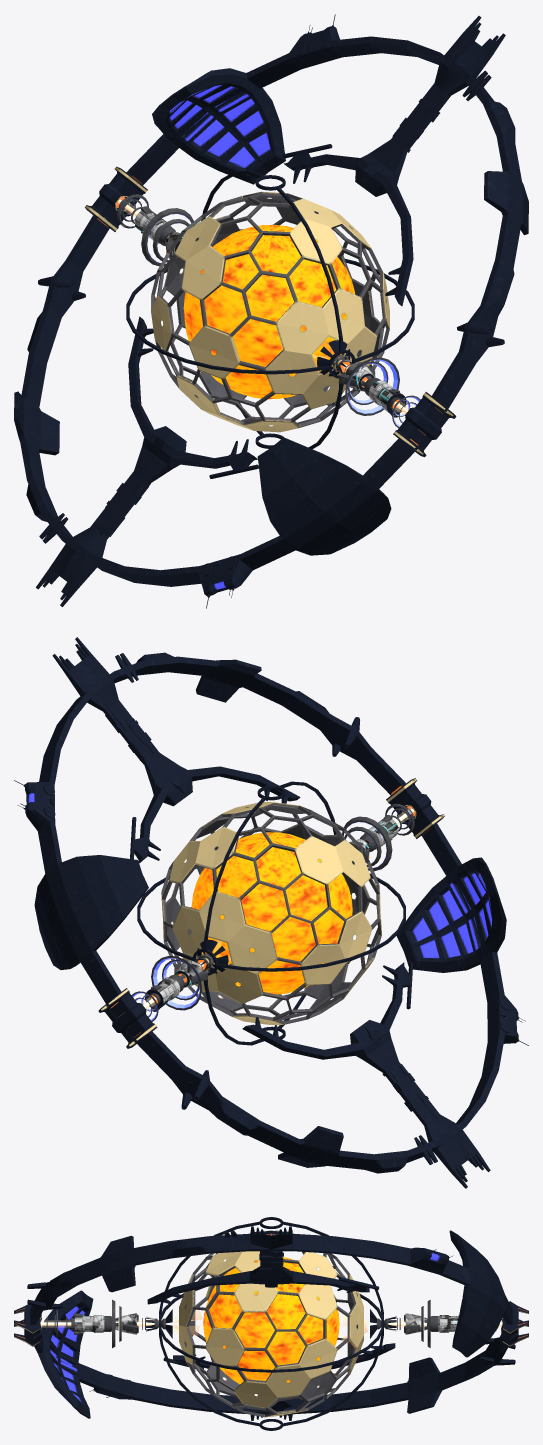
Rendered from dyson_sphere.glb.
3 views of the same model, one above another, from view 1: azimuth 30°, elevation 25°; view 2: azimuth 150°, elevation 25°; view 3: azimuth 270°, elevation 25° (orthographic). The views are drawn at different scales.
Visible parts, largest first — view 1: polySurface13, pPlane8; view 2: polySurface13, pPlane8; view 3: polySurface13, pPlane8.
Part boxes in pixels (left/top/right/bottom): polySurface13: left=14, top=14, right=528, bottom=608; pPlane8: left=116, top=191, right=420, bottom=432; polySurface13: left=14, top=637, right=528, bottom=1188; pPlane8: left=131, top=802, right=414, bottom=1024; polySurface13: left=14, top=1217, right=528, bottom=1430; pPlane8: left=40, top=1230, right=502, bottom=1417.
Bounding box in the file's own units: 68.28 × 68.28 × 87.78.
Materials: 2 (2 with a texture image).
